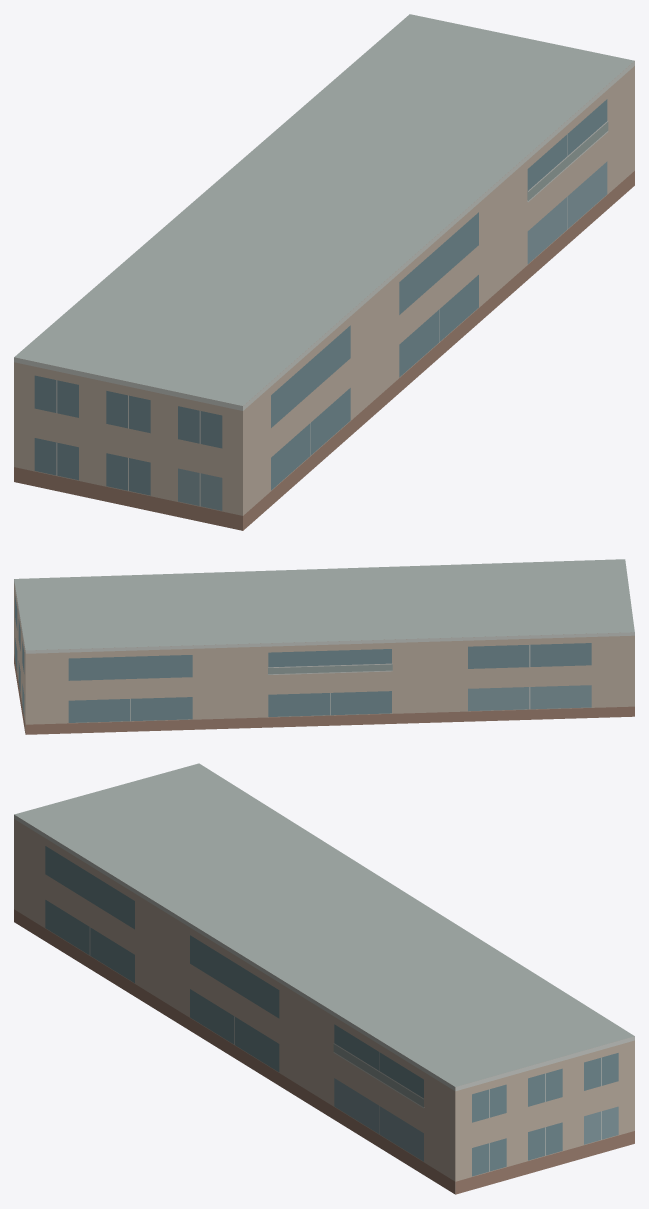
The model's file is survey-upis-32843874.glb.
3 views of the same model, one above another, from view 1: azimuth 30°, elevation 25°; view 2: azimuth 150°, elevation 25°; view 3: azimuth 270°, elevation 25° (orthographic). The views are drawn at different scales.
Visible parts, largest first — view 1: survey-upis-32843874.tmp; view 2: survey-upis-32843874.tmp; view 3: survey-upis-32843874.tmp.
Part boxes in pixels (bbox=[...]): survey-upis-32843874.tmp: bbox=[14, 14, 634, 530]; survey-upis-32843874.tmp: bbox=[14, 559, 634, 734]; survey-upis-32843874.tmp: bbox=[14, 763, 634, 1194].
Size of the model in its own units: 39.39 by 6.1 by 31.92.
